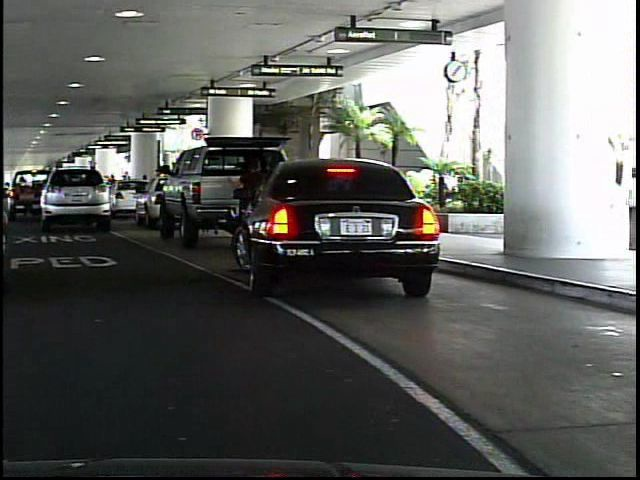person: (224, 150, 270, 205)
